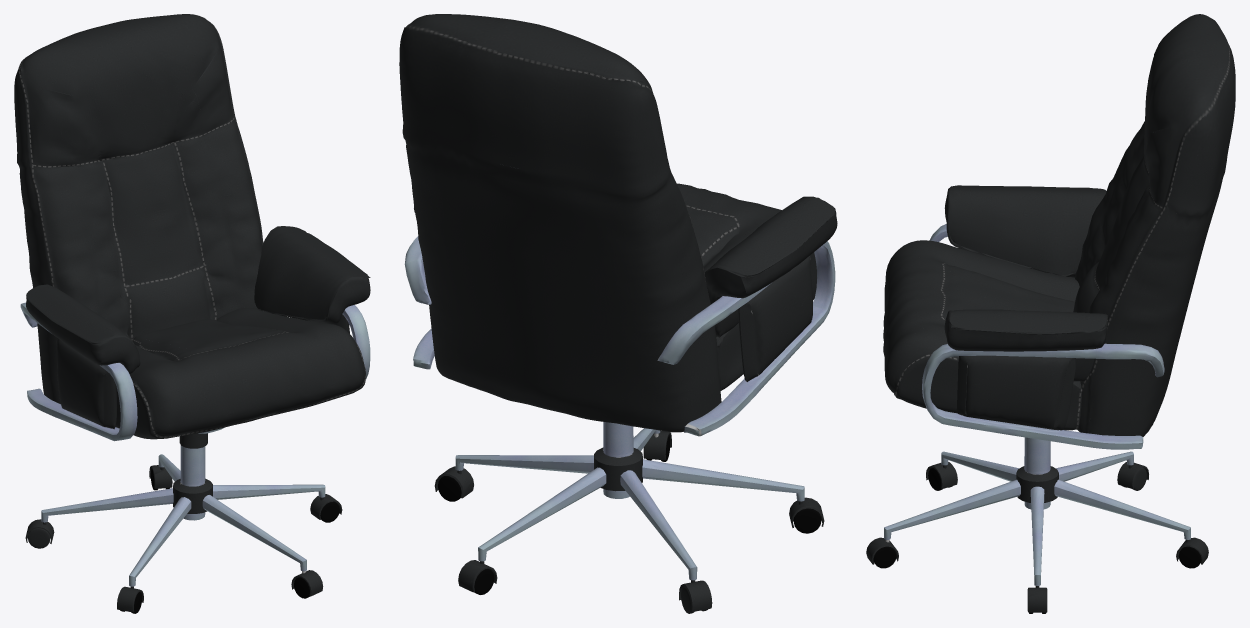
The picture shows the model from 3 angles, left to right: view 1: azimuth 30°, elevation 25°; view 2: azimuth 150°, elevation 25°; view 3: azimuth 270°, elevation 25°; orthographic projection. The views are drawn at different scales.
Parts seen in each view (by area): view 1: Remesh, scene__0; view 2: Remesh, scene__0; view 3: Remesh, scene__0.
Boxes of the visible parts, x1,y1,x2,y2 form: Remesh: (14,14,370,448); scene__0: (25,445,342,613); Remesh: (399,14,837,436); scene__0: (434,422,824,613); Remesh: (883,14,1235,449); scene__0: (866,437,1208,613).
Size of the model in its own units: 86.03 by 134 by 90.39.
1 material, 1 textured.
